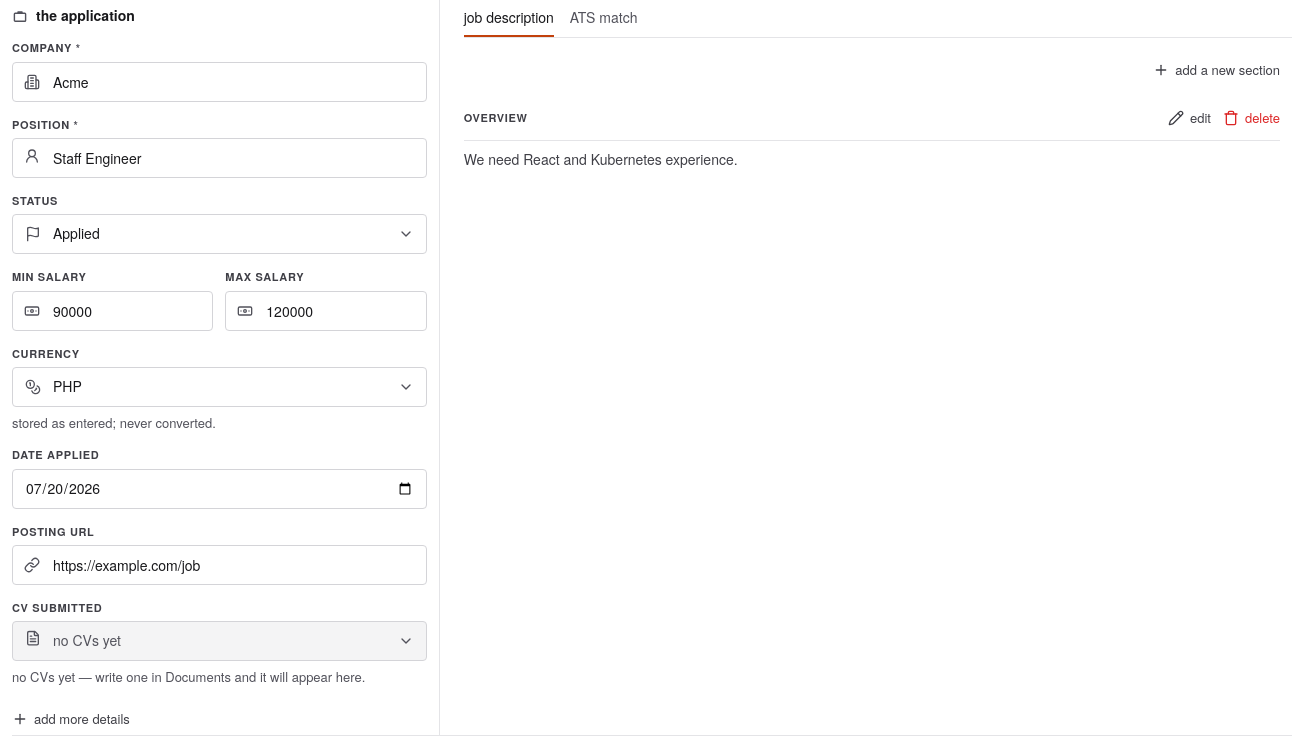
Test: ApplicationRecordView › hides the fields this application has never filled in, behind one control
(page scrolled)
Expected: the field labelled "work mode" is not shown
Expected: the text "not set" is not shown
Click the button "add more details".
click(71, 719)  # box [12,703,130,735]
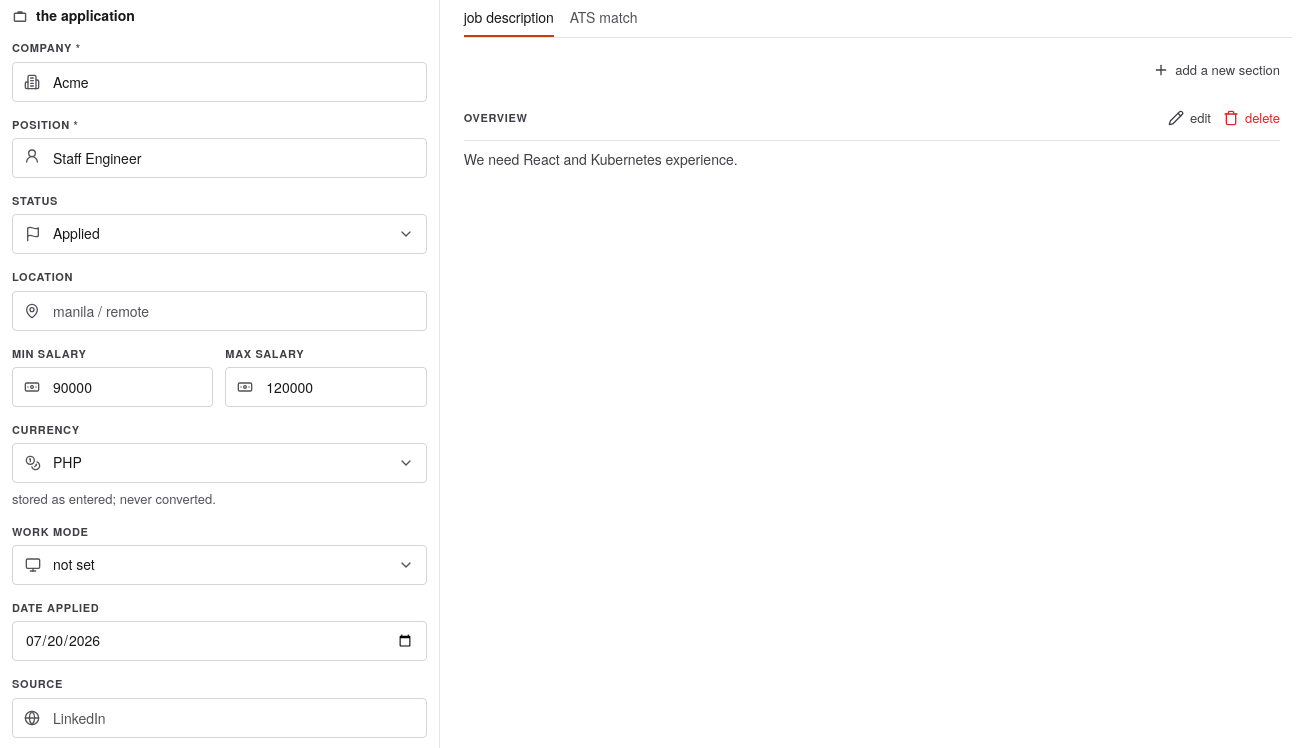
Expected: the dropdown named "work mode" is shown, [12,545,427,585]
